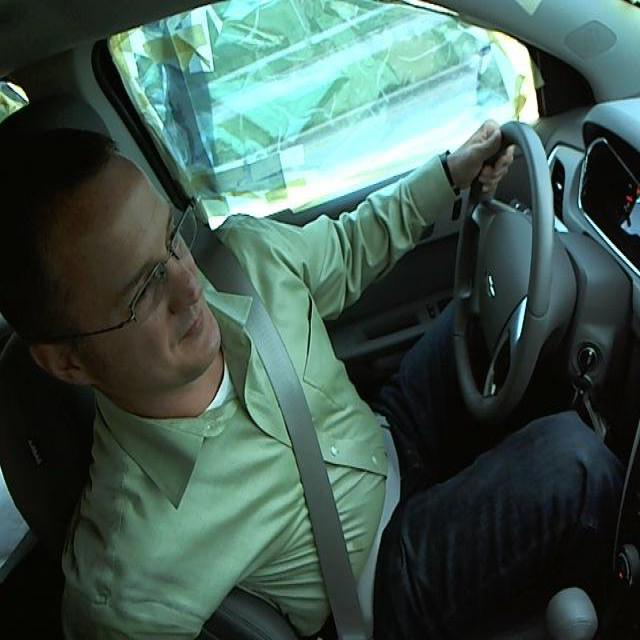seatbelt: (224, 285, 405, 616)
